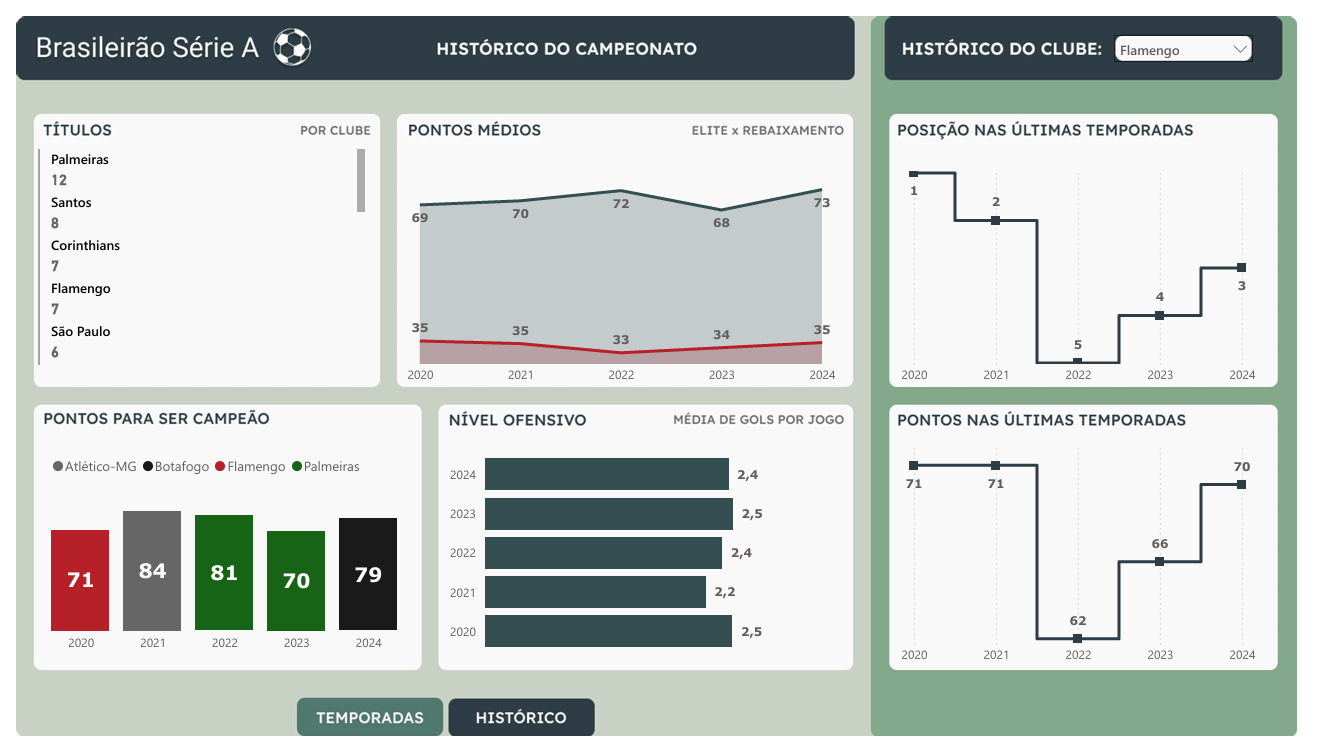

What the dashboard file says about the page in this screenshot:
{"tool":"powerbi","page":{"name":"Histórico","canvas":[1280,720],"ordinal":1},"visuals":[{"type":"lineChart","title":"Pontos nas últimas Temporadas","fields":{"Category":["classificacao.Ano"],"Y":["classificacao.PontosSelecionado"]},"box":[879,415,364,241],"z":0},{"type":"slicer","fields":{"Values":["classificacao.Time"]},"box":[1087,8,159,70],"z":1000},{"type":"lineChart","title":"Posição nas últimas Temporadas","fields":{"Category":["classificacao.Ano"],"Y":["Sum(classificacao.Ranking)"]},"box":[879,142,364,234],"z":2000},{"type":"columnChart","title":"Pontos dos Últimos Campeões","fields":{"Y":["Sum(Campeoes.Pontos)"],"Series":["Campeoes.Time"],"Category":["Campeoes.Ano"]},"box":[30,429,355,215],"z":3000},{"type":"clusteredBarChart","title":"Nível Ofensivo: Média de Gols por Jogo","fields":{"Category":["classificacao.Ano"],"Y":["classificacao.MediaGolsPorJogo"]},"box":[426,429,405,214],"z":4000},{"type":"lineChart","title":"Pontos Médios: Elite vs Rebaixamento","fields":{"Category":["classificacao.Ano"],"Y":["classificacao.MediaPontosZ4","classificacao.MediaPontosTop4"]},"box":[385,128,438,248],"z":5000},{"type":"multiRowCard","title":"Títulos por Clube","fields":{"Values":["titulos.clube","titulos.quantidade"]},"box":[17,128,337,225],"z":6000},{"type":"actionButton","box":[5,20,50,49],"z":7000},{"type":"actionButton","box":[277,680,149,40],"z":7001}]}

Visuals, with their boxes in screenshot pixels (x1, y1, x2, y2), scaled from the page's 1280x720 canvas onto the 1319x755 screenshot:
"Pontos nas últimas Temporadas" lineChart: (left=906, top=435, right=1281, bottom=688)
slicer - classificacao.Time: (left=1120, top=8, right=1284, bottom=82)
"Posição nas últimas Temporadas" lineChart: (left=906, top=149, right=1281, bottom=394)
"Pontos dos Últimos Campeões" columnChart: (left=31, top=450, right=397, bottom=675)
"Nível Ofensivo: Média de Gols por Jogo" clusteredBarChart: (left=439, top=450, right=856, bottom=674)
"Pontos Médios: Elite vs Rebaixamento" lineChart: (left=397, top=134, right=848, bottom=394)
"Títulos por Clube" multiRowCard: (left=18, top=134, right=365, bottom=370)
actionButton: (left=5, top=21, right=57, bottom=72)
actionButton: (left=285, top=713, right=439, bottom=754)
